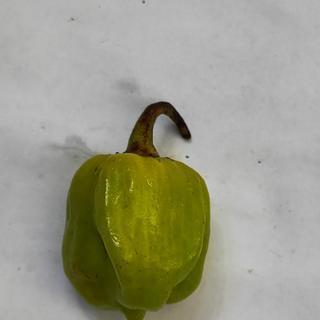Grade-A: (57, 149, 213, 316)
